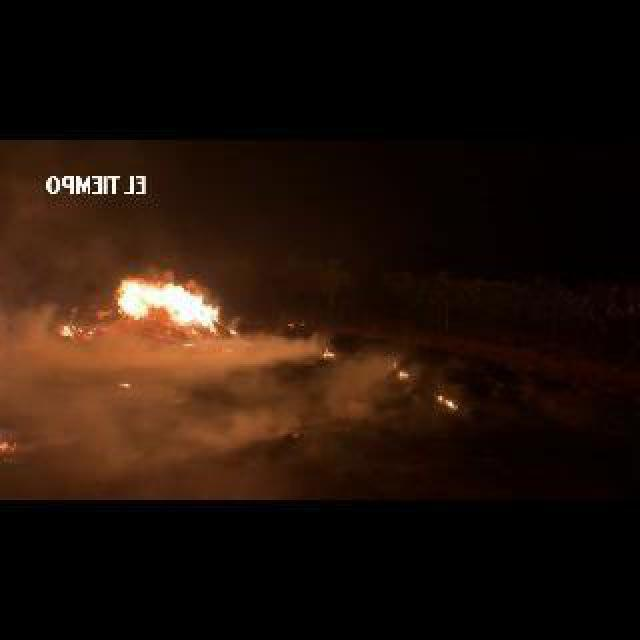Fire: (110, 274, 248, 348), (436, 394, 458, 410), (58, 322, 72, 334), (322, 344, 334, 356), (398, 368, 408, 380), (118, 378, 132, 386), (4, 438, 12, 452)
